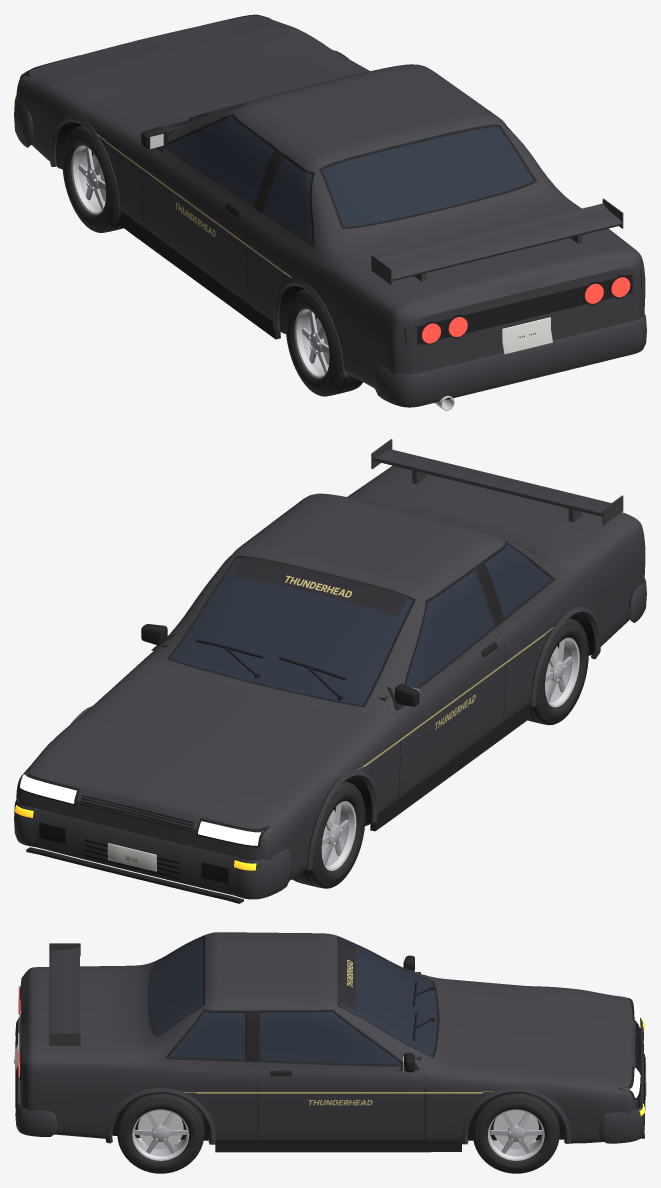
3 views of the same model, one above another, from view 1: azimuth 30°, elevation 25°; view 2: azimuth 150°, elevation 25°; view 3: azimuth 270°, elevation 25° (orthographic). The views are drawn at different scales.
Visible parts, largest first — view 1: Body, Wheel_RL, Wheel_FL; view 2: Body, Wheel_FL, Wheel_RL; view 3: Body, Wheel_RR, Wheel_FR.
Boxes of the visible parts, box(x1,y1,x2,y2) form: Body: box(14, 14, 646, 410); Wheel_RL: box(285, 289, 362, 396); Wheel_FL: box(62, 125, 123, 232); Body: box(14, 439, 646, 903); Wheel_FL: box(292, 781, 365, 888); Wheel_RL: box(527, 618, 588, 725); Body: box(14, 932, 646, 1152); Wheel_RR: box(117, 1093, 204, 1173); Wheel_FR: box(472, 1093, 559, 1173).
Size of the model in its own units: 1.86 by 1.32 by 4.66.
